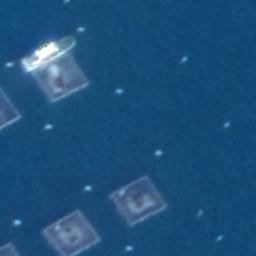square_cover: (104, 171, 170, 228), (27, 48, 91, 101), (38, 207, 105, 256), (1, 86, 25, 136)
